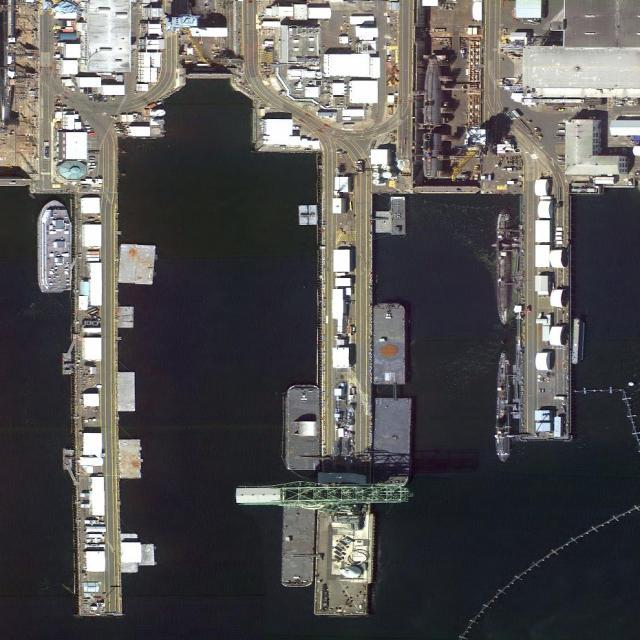Dock: (317, 191, 370, 614), (70, 193, 120, 612), (518, 195, 570, 442)
Other Warship: (37, 201, 72, 295)
Submarine: (420, 56, 444, 181), (497, 210, 511, 325), (497, 352, 510, 461)
